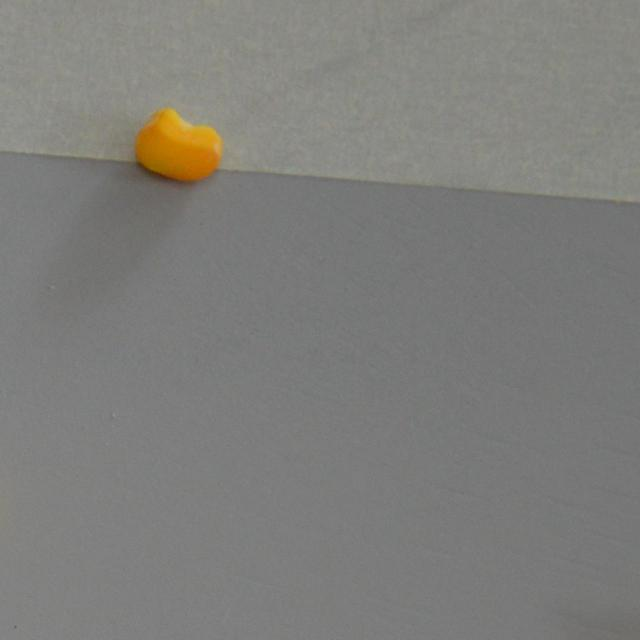no_canjicado: (131, 104, 224, 184)
